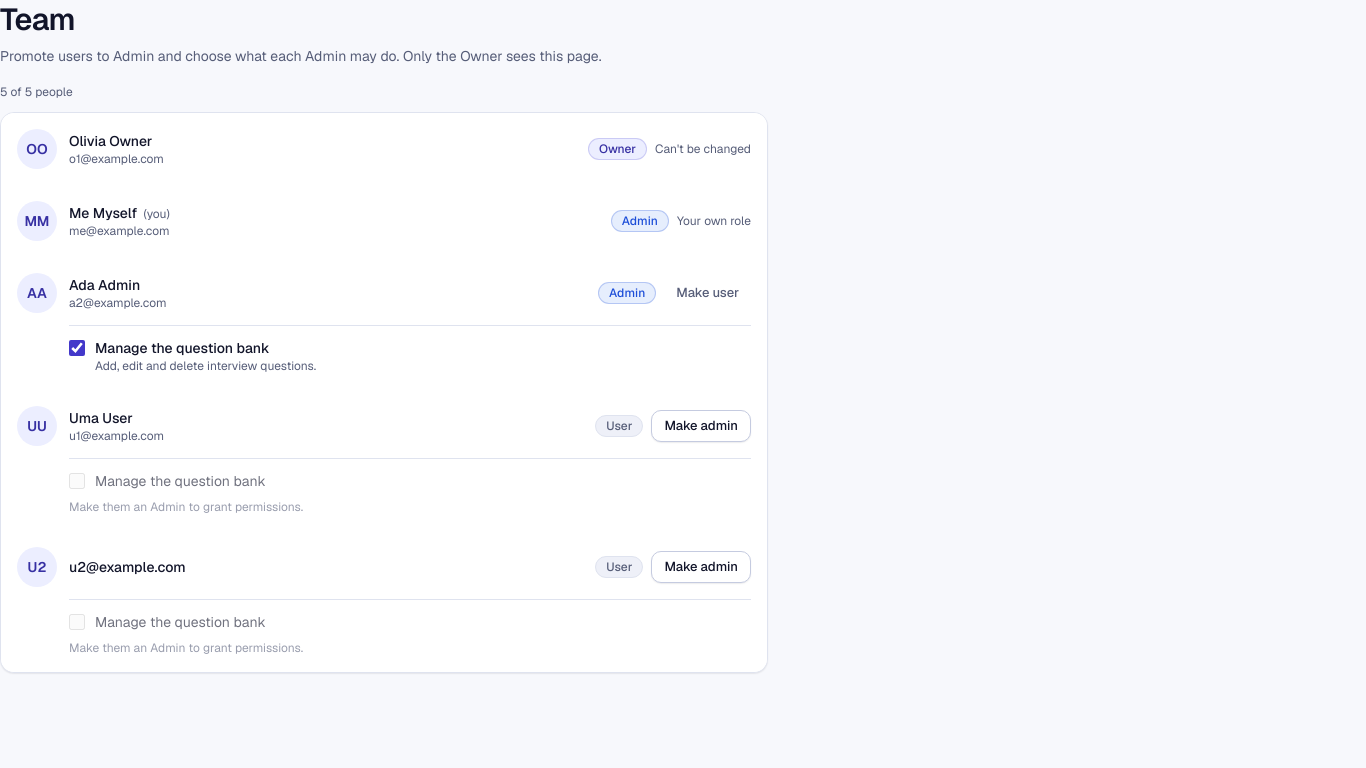
Test: TeamManager › demotes an admin only after confirming, and clears their permissions locally
Expected: the text "Ada Admin" is shown, x1=69 y1=276 x2=140 y2=294
Click the button with aria-label "Make Ada Admin a User".
click(708, 293)  # box x1=664 y1=277 x2=751 y2=309
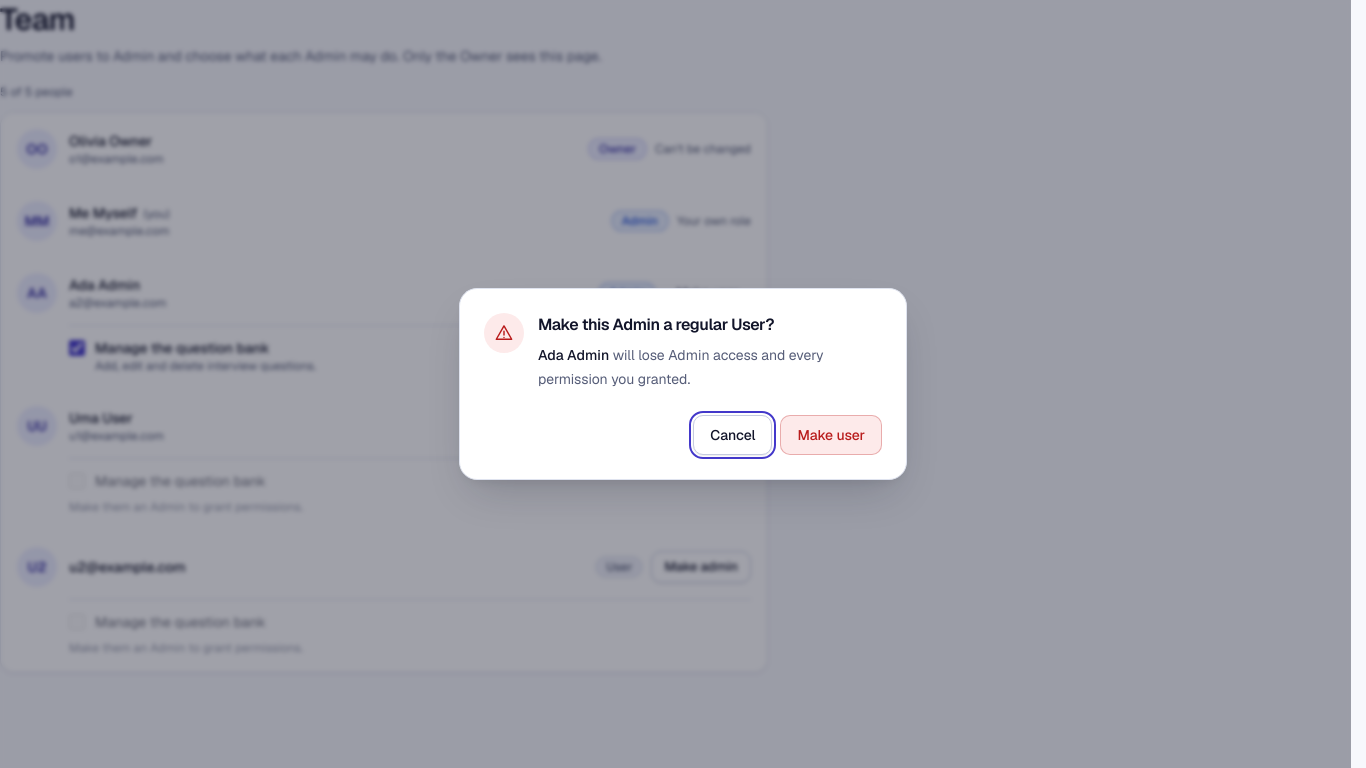
Click the button "Make user".
click(831, 435)  # box x1=780 y1=415 x2=882 y2=455
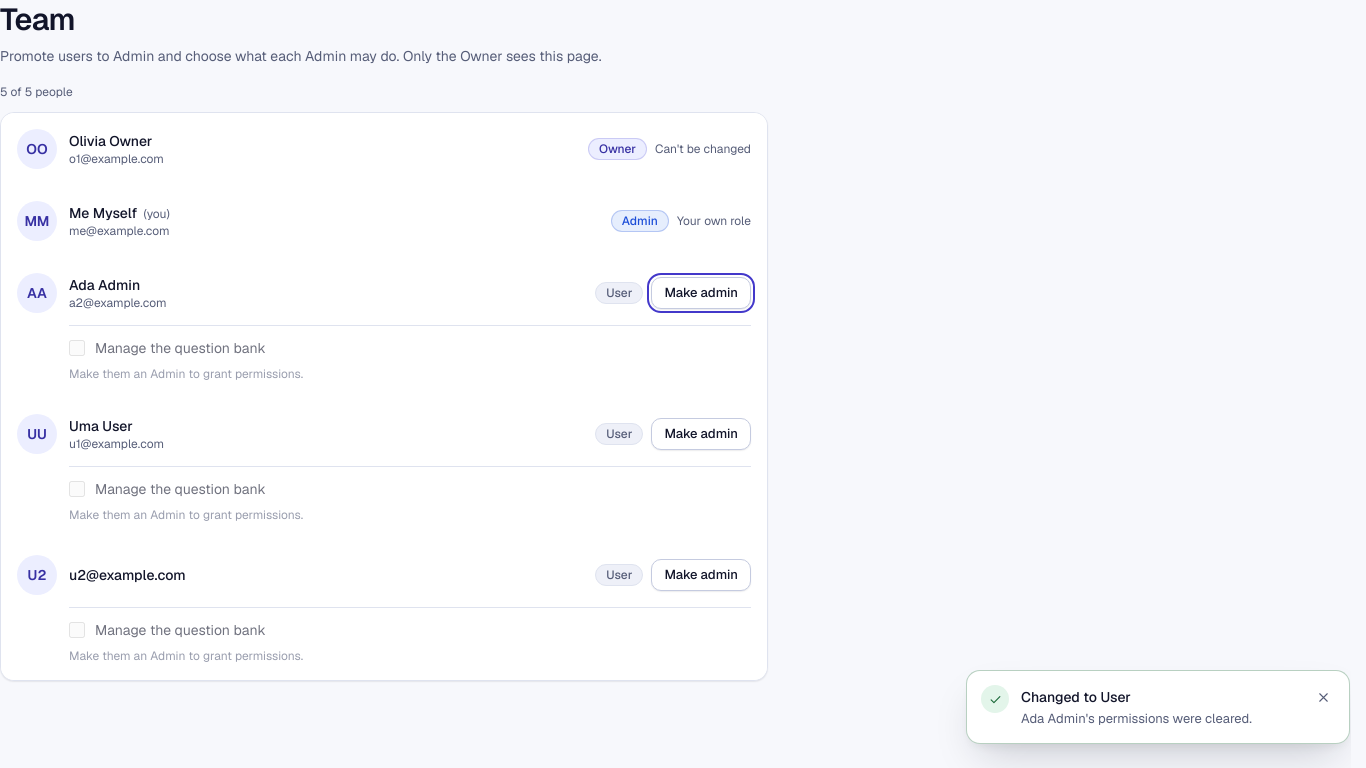
Expected: the checkbox labelled "Manage the question bank" below "AA" is disabled, x1=69 y1=340 x2=85 y2=356
Now the button with aria-label "Make Ada Admin an Admin" is shown, box x1=651 y1=277 x2=751 y2=309
Now the checkbox labelled "Manage the question bank" below "AA" is not checked, box x1=69 y1=340 x2=85 y2=356
